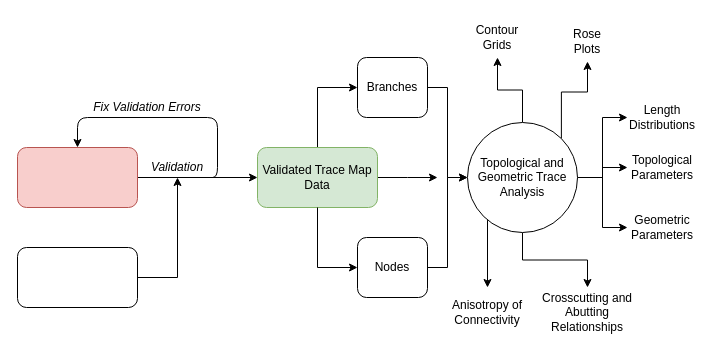
Image size: 715x354. Some labels were removed from this diagram. The shapes that lost their labels are listed below. From the top down, each one's centre as x and y in pixels, then its label:
At point 77,177: "Unvalidated Trace Map Data".
At point 77,277: "Target Area Polygon for Trace Map".
